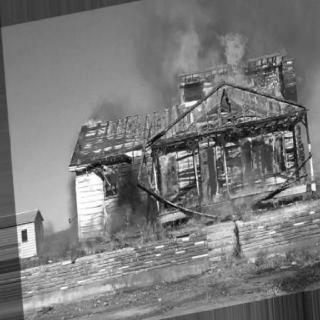Fire: (170, 22, 301, 130), (72, 112, 164, 162)
